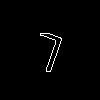L: (25, 30, 66, 83)
